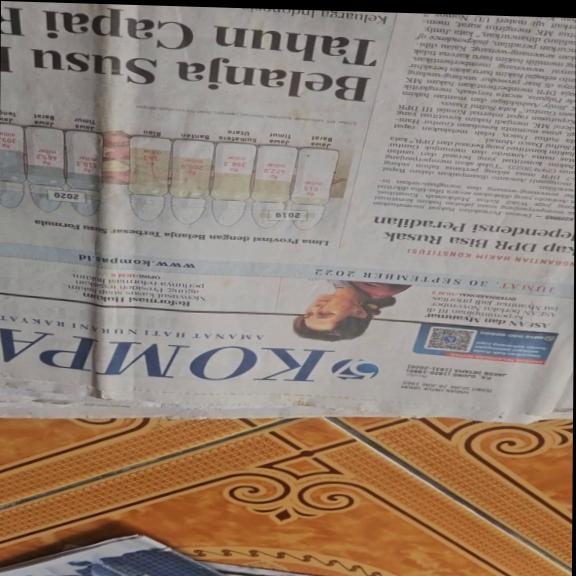Kertas: (5, 4, 571, 413)
